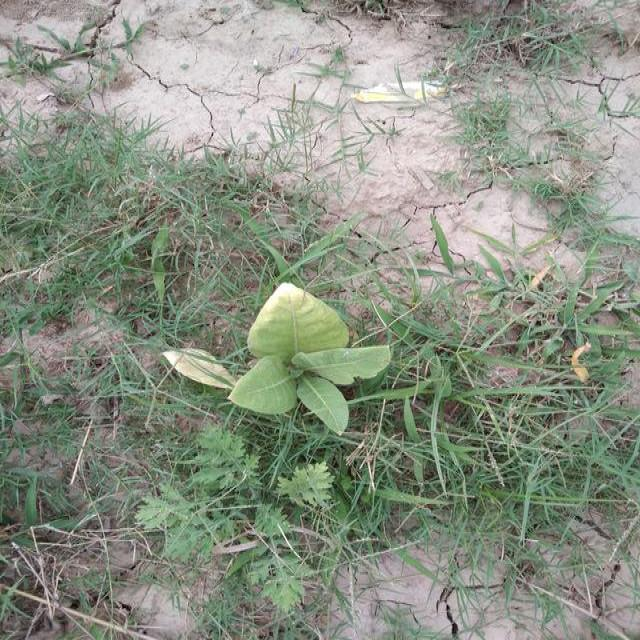crop: (164, 279, 398, 438)
